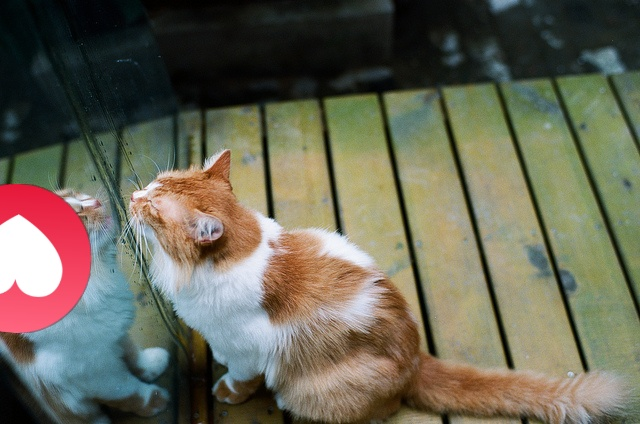love: (0, 184, 91, 333)
